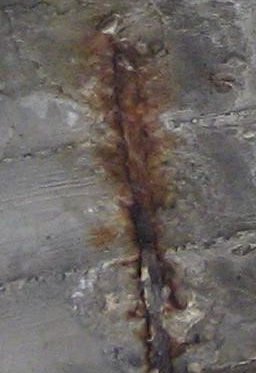Exposed reinforcement: (113, 49, 174, 373)
